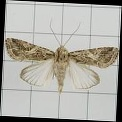Spodoptera litura: (3, 21, 119, 94)
